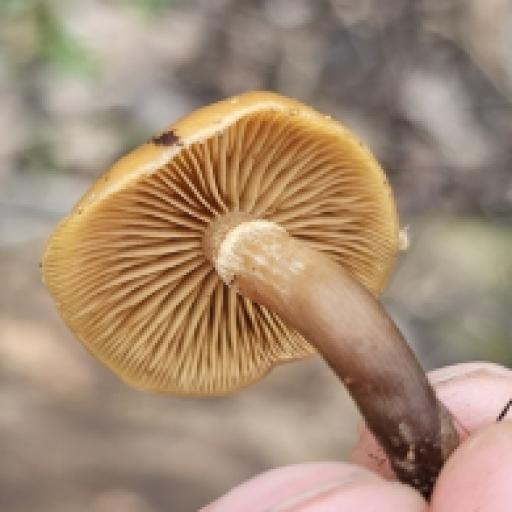mushroom: (27, 85, 435, 419)
